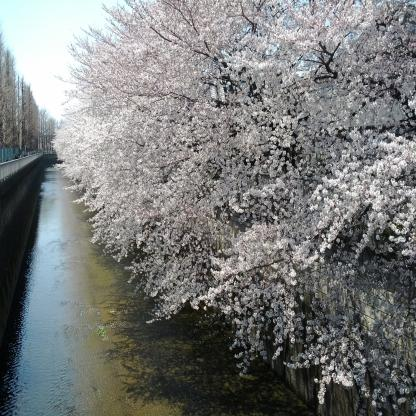Someiyoshino: (50, 3, 414, 398)
